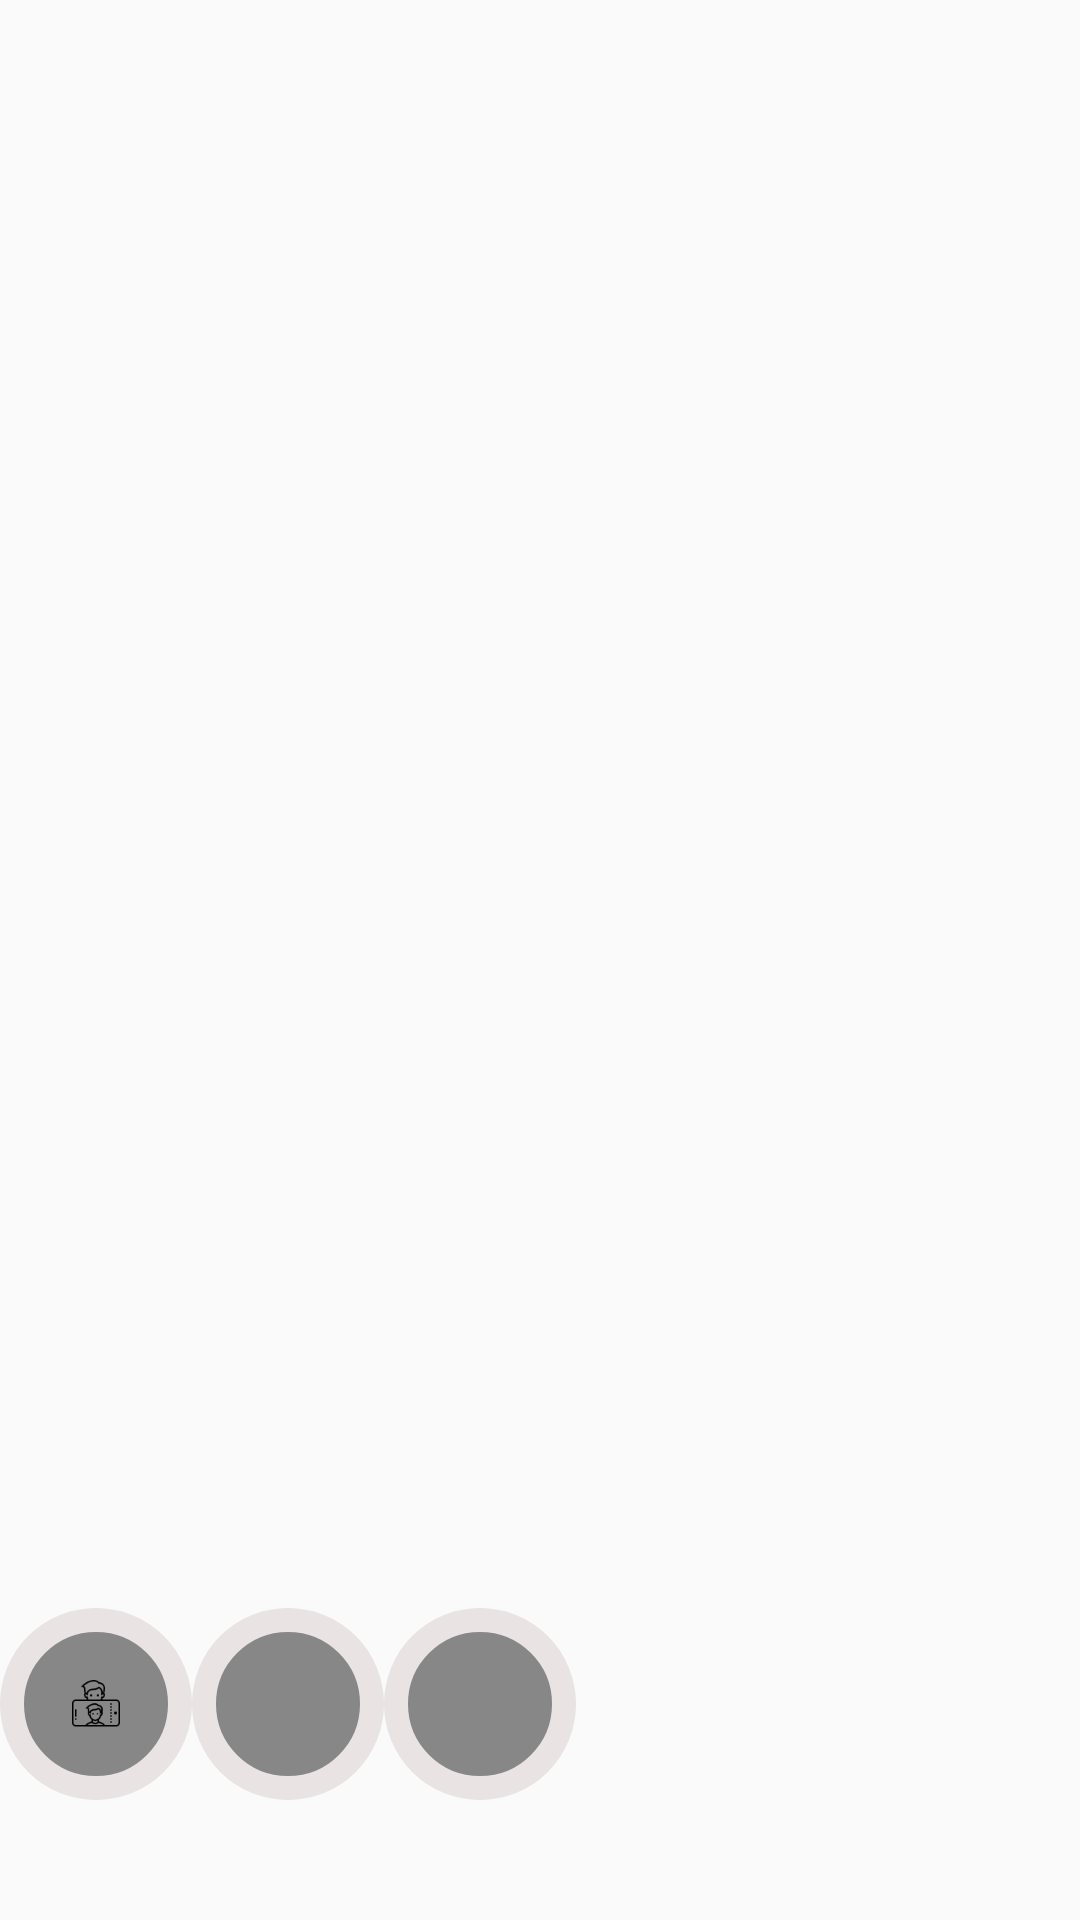

Icons on this 1080x1920 Android screen, each with the point to tap as (x,y):
camera: (96,1704)
